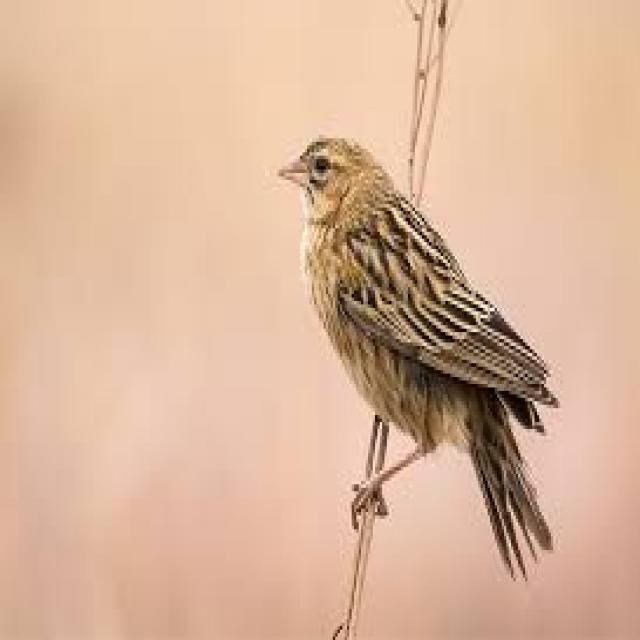bird: (254, 72, 624, 640)
